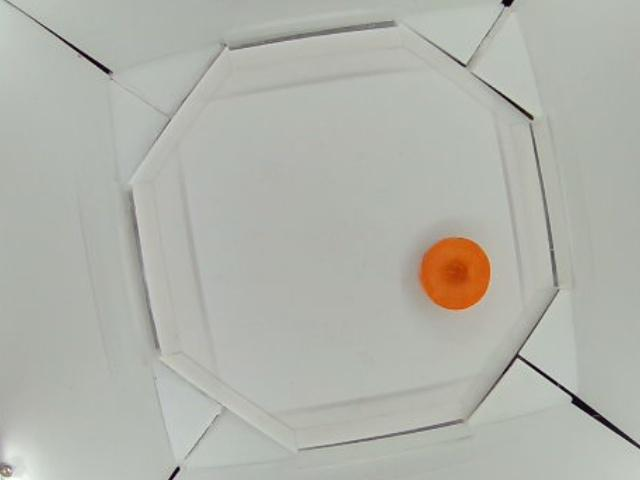Carrot: (419, 238, 491, 310)
